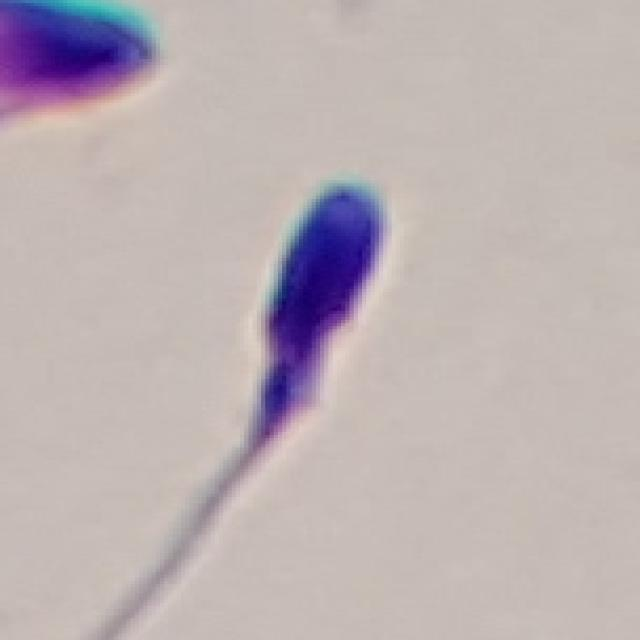abnormal sperm: (188, 180, 390, 544)
